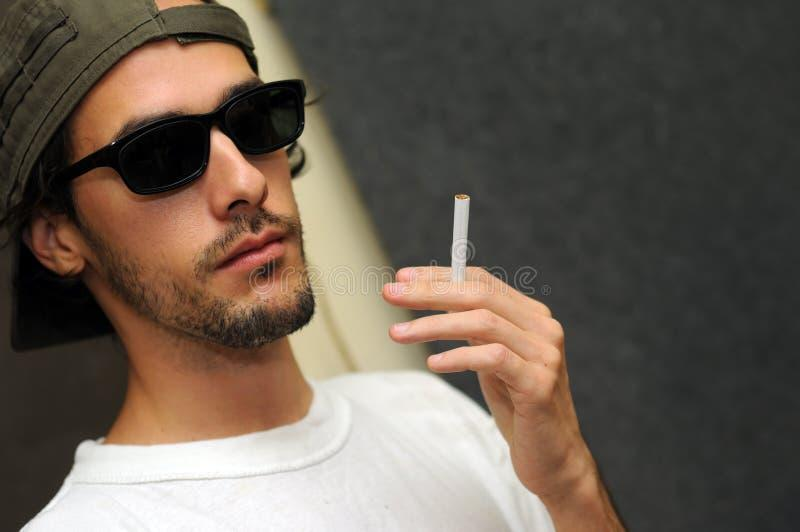cigarette: (451, 194, 469, 280)
